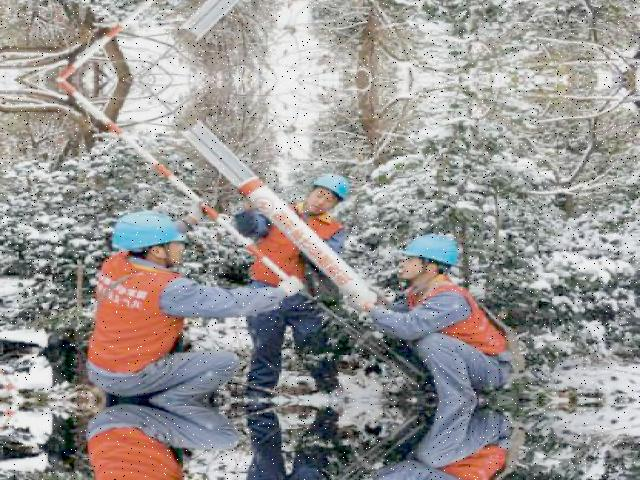Helmet: (105, 208, 198, 256), (402, 232, 466, 269), (313, 170, 356, 202)
